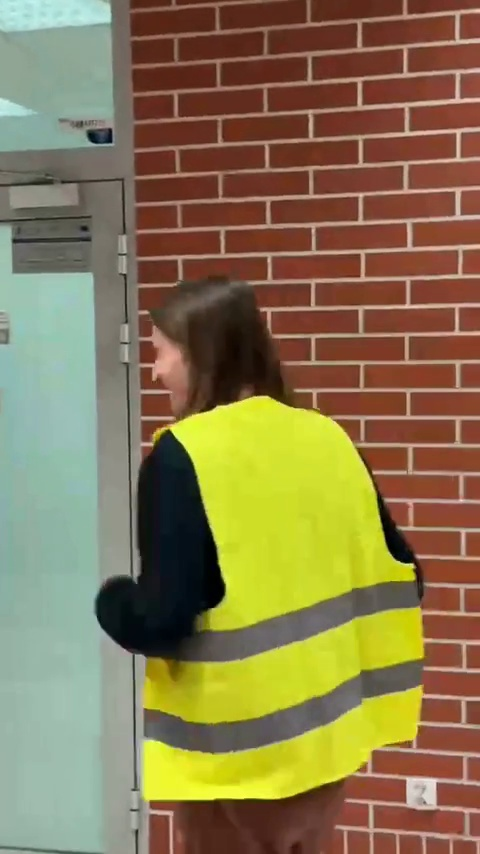vest: (104, 273, 424, 844)
